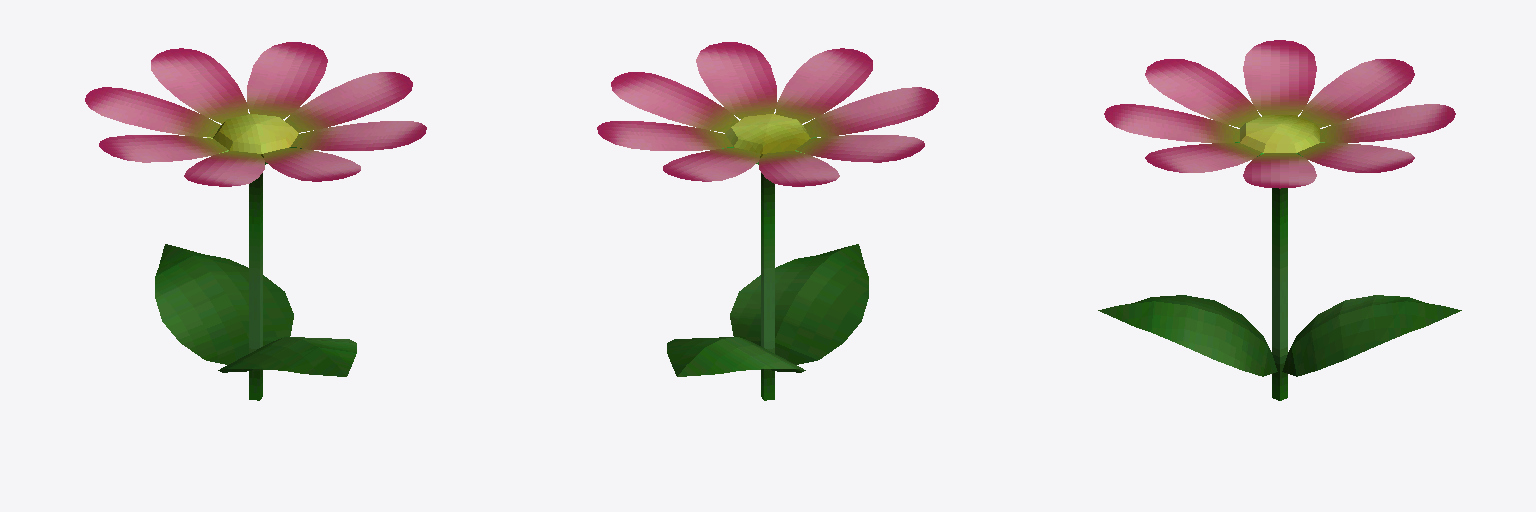
The picture shows the model from 3 angles: view 1: azimuth 30°, elevation 25°; view 2: azimuth 150°, elevation 25°; view 3: azimuth 270°, elevation 25°; orthographic projection.
Visible parts, largest first — view 1: polygon3, polygon2, polygon4, polygon1; view 2: polygon3, polygon2, polygon4, polygon1; view 3: polygon3, polygon2, polygon4, polygon1.
Part boxes in pixels (left/top/right/bottom): polygon3: left=85, top=42, right=426, bottom=186; polygon2: left=155, top=244, right=356, bottom=376; polygon4: left=249, top=173, right=262, bottom=400; polygon1: left=213, top=114, right=298, bottom=153; polygon3: left=597, top=42, right=938, bottom=186; polygon2: left=667, top=244, right=868, bottom=376; polygon4: left=761, top=173, right=774, bottom=400; polygon1: left=725, top=114, right=810, bottom=153; polygon3: left=1104, top=40, right=1455, bottom=188; polygon2: left=1098, top=295, right=1461, bottom=376; polygon4: left=1272, top=188, right=1287, bottom=400; polygon1: left=1240, top=115, right=1319, bottom=152.
Size of the model in its own units: 4.75 by 4.23 by 4.92.
Materials: 6 (6 with a texture image).